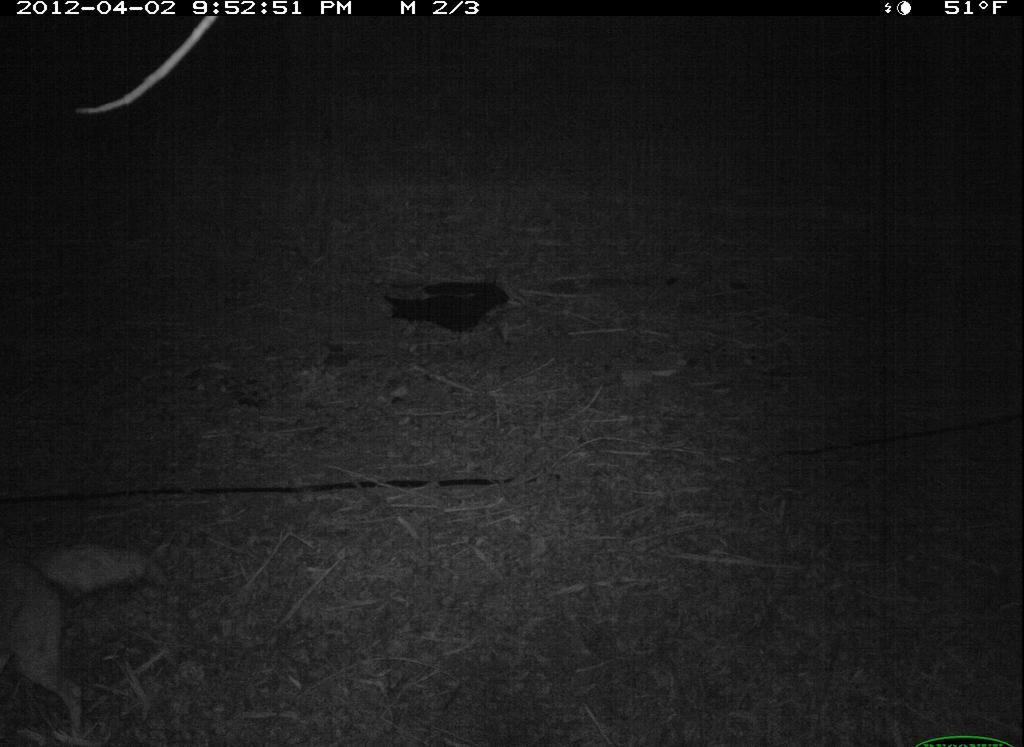coyote: (1, 515, 168, 743)
